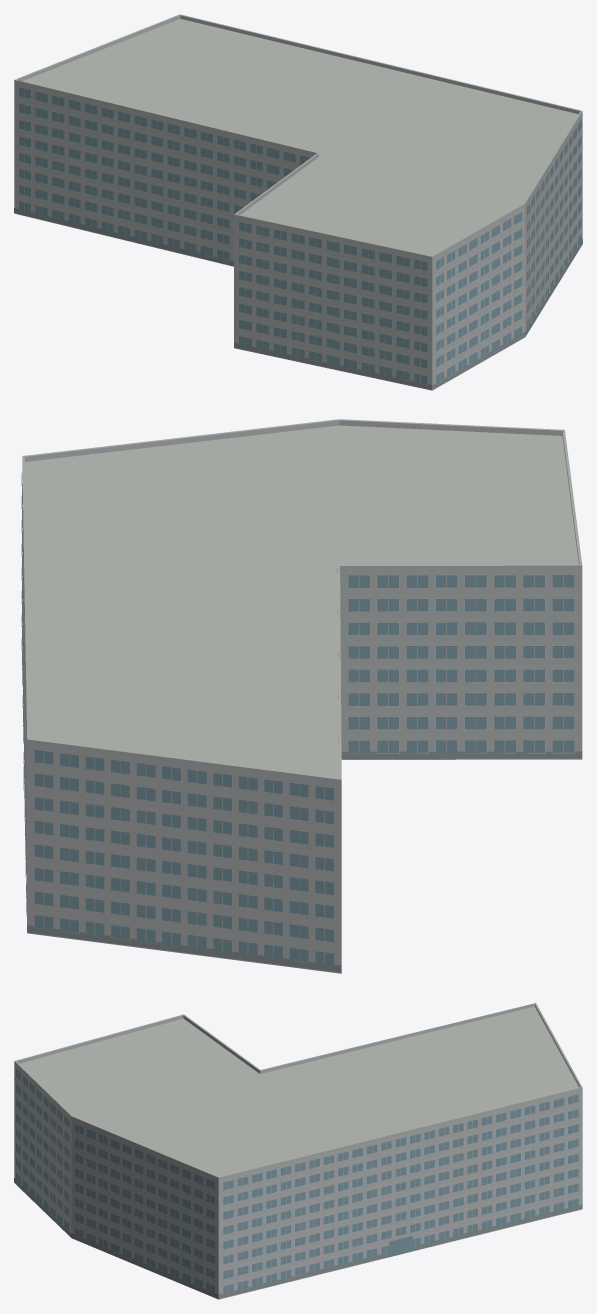
The model's file is public-8809114b-1f45-4645-9f04-c864bb9b8746.glb.
3 renders of one model, top to bottom at view 1: azimuth 30°, elevation 25°; view 2: azimuth 150°, elevation 25°; view 3: azimuth 270°, elevation 25°, orthographic. The views are drawn at different scales.
Parts seen in each view (by area): view 1: public-8809114b-1f45-4645-9f04-c864bb9b8746; view 2: public-8809114b-1f45-4645-9f04-c864bb9b8746; view 3: public-8809114b-1f45-4645-9f04-c864bb9b8746.
Part boxes in pixels (box(x1,y1,x2,y2)): public-8809114b-1f45-4645-9f04-c864bb9b8746: box(14, 14, 582, 390); public-8809114b-1f45-4645-9f04-c864bb9b8746: box(21, 419, 582, 973); public-8809114b-1f45-4645-9f04-c864bb9b8746: box(14, 1002, 582, 1299).
Bounding box in the file's own units: 75.38 × 24.4 × 103.
